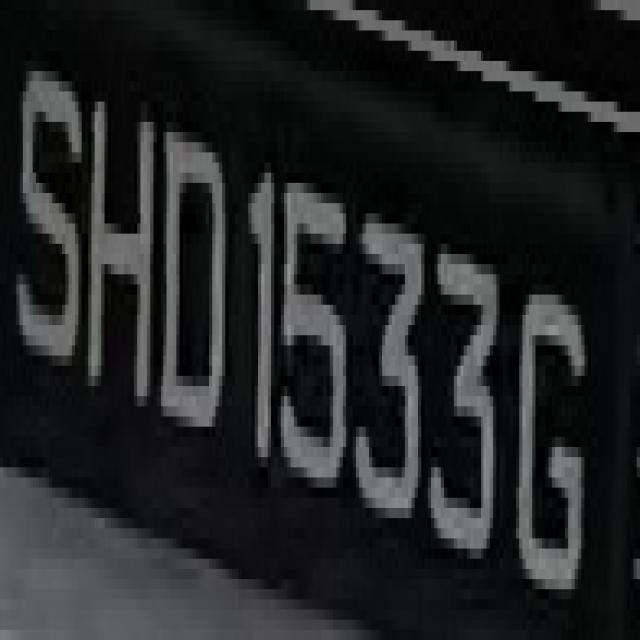1: (248, 132, 291, 528)
3: (421, 183, 503, 579), (346, 172, 425, 548)
5: (281, 132, 349, 528)
D: (156, 101, 228, 478)
G: (516, 223, 584, 620)
H: (88, 61, 157, 427)
S: (7, 31, 82, 396)
